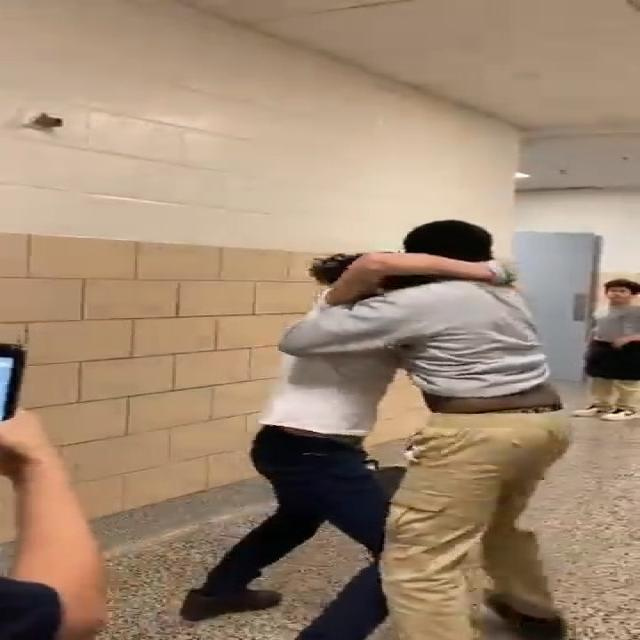fight: (260, 214, 576, 640)
